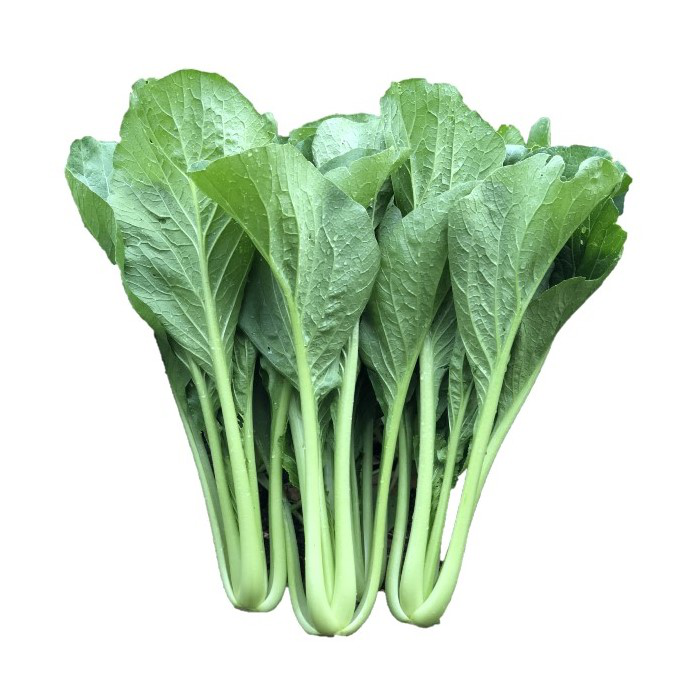Sawi: (74, 62, 642, 662)
